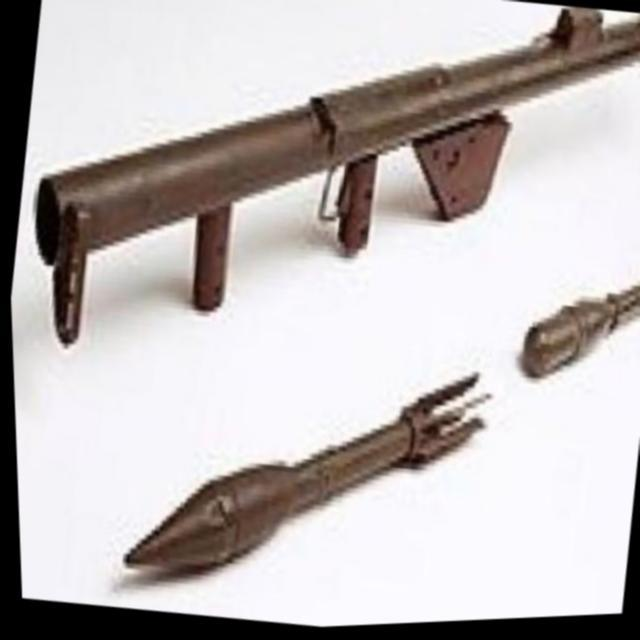weapon: (5, 0, 640, 426), (108, 327, 496, 624)
